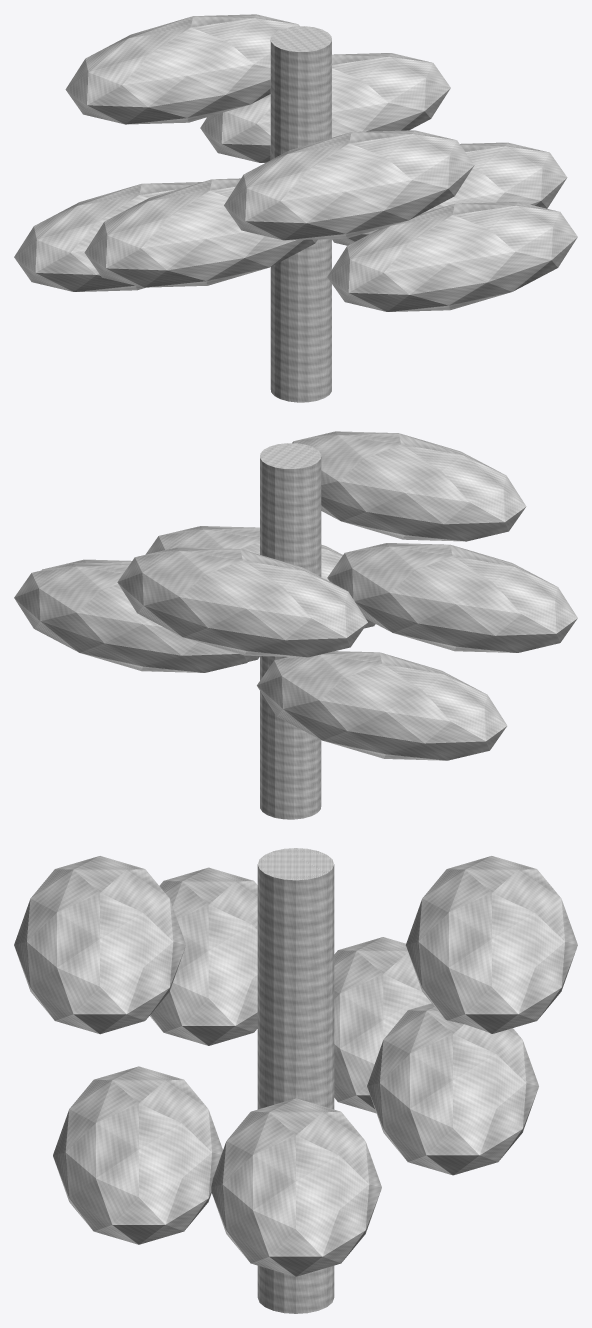
File: flora-beryl-nut_variant_d.glb
3 views of the same model, one above another, from view 1: azimuth 30°, elevation 25°; view 2: azimuth 150°, elevation 25°; view 3: azimuth 270°, elevation 25° (orthographic). The views are drawn at different scales.
Parts seen in each view (by area): view 1: Leaf cluster.026, Leaf cluster.027, Leaf cluster.023, Plant stem.003, Leaf cluster.025, Leaf cluster.022, Leaf cluster.024, Leaf cluster.021; view 2: Leaf cluster.023, Leaf cluster.024, Leaf cluster.025, Leaf cluster.026, Plant stem.003, Leaf cluster.022, Leaf cluster.027; view 3: Plant stem.003, Leaf cluster.026, Leaf cluster.021, Leaf cluster.023, Leaf cluster.027, Leaf cluster.022, Leaf cluster.025, Leaf cluster.024.
Part boxes in pixels (x1,y1,x2,y2): Leaf cluster.026: (224,130,474,240); Leaf cluster.027: (327,202,577,311); Leaf cluster.023: (65,14,299,124); Plant stem.003: (270,26,331,402); Leaf cluster.025: (84,178,317,287); Leaf cluster.022: (200,53,450,162); Leaf cluster.024: (14,182,201,291); Leaf cluster.021: (332,142,567,245); Leaf cluster.023: (117,547,367,657); Leaf cluster.024: (257,651,507,760); Leaf cluster.025: (327,543,577,652); Leaf cluster.026: (292,431,526,541); Plant stem.003: (260,443,321,819); Leaf cluster.022: (14,563,251,672); Leaf cluster.027: (145,526,375,628); Plant stem.003: (257,848,334,1313); Leaf cluster.026: (14,856,185,1034); Leaf cluster.021: (211,1098,381,1276); Leaf cluster.023: (406,856,577,1033); Leaf cluster.027: (53,1066,222,1244); Leaf cluster.022: (367,1003,538,1175); Leaf cluster.025: (150,867,257,1045); Leaf cluster.024: (334,937,431,1113).
Size of what is drawn, in the model's own units: 1.48 by 1 by 1.18.
3 materials, 3 textured.
